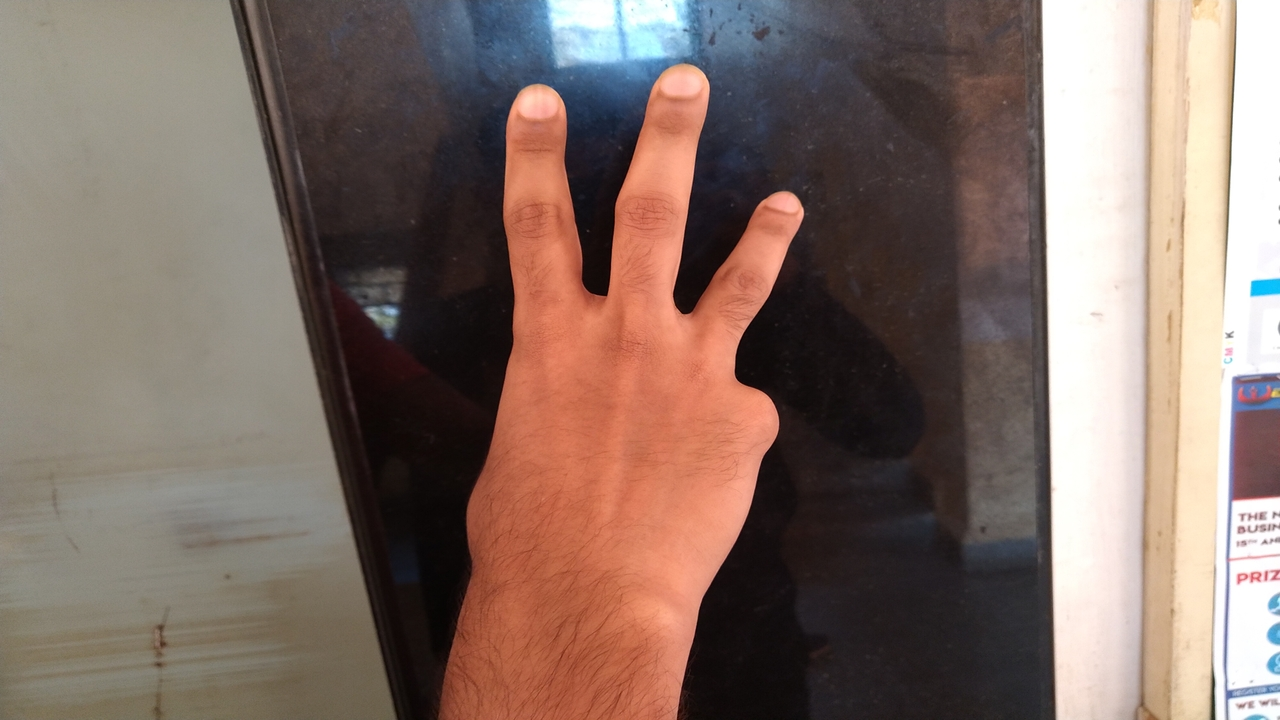fingertip: (502, 80, 568, 142), (646, 58, 714, 118), (744, 178, 814, 236)
